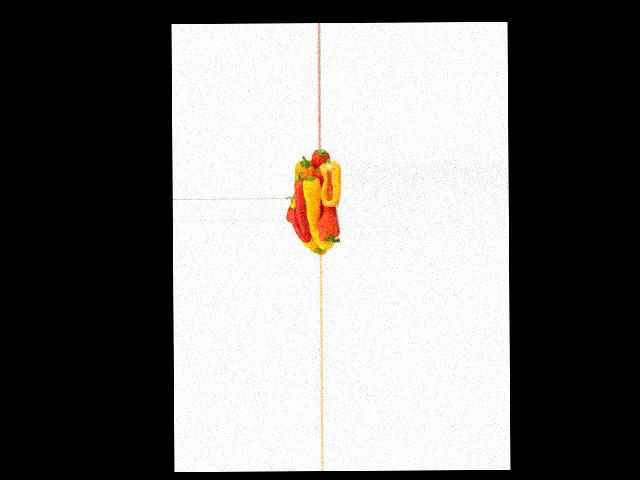bell_pepper: (308, 148, 329, 179)
